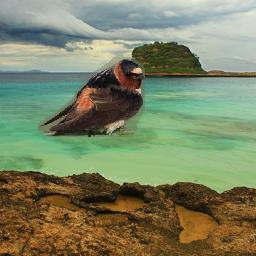Swallow: (39, 57, 146, 137)
